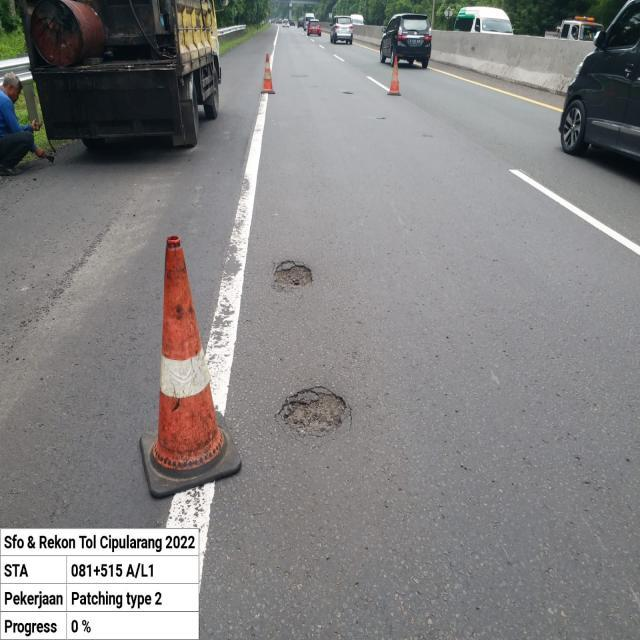Buraco: (275, 383, 355, 441), (270, 258, 317, 290), (339, 90, 356, 96), (373, 115, 388, 121)
